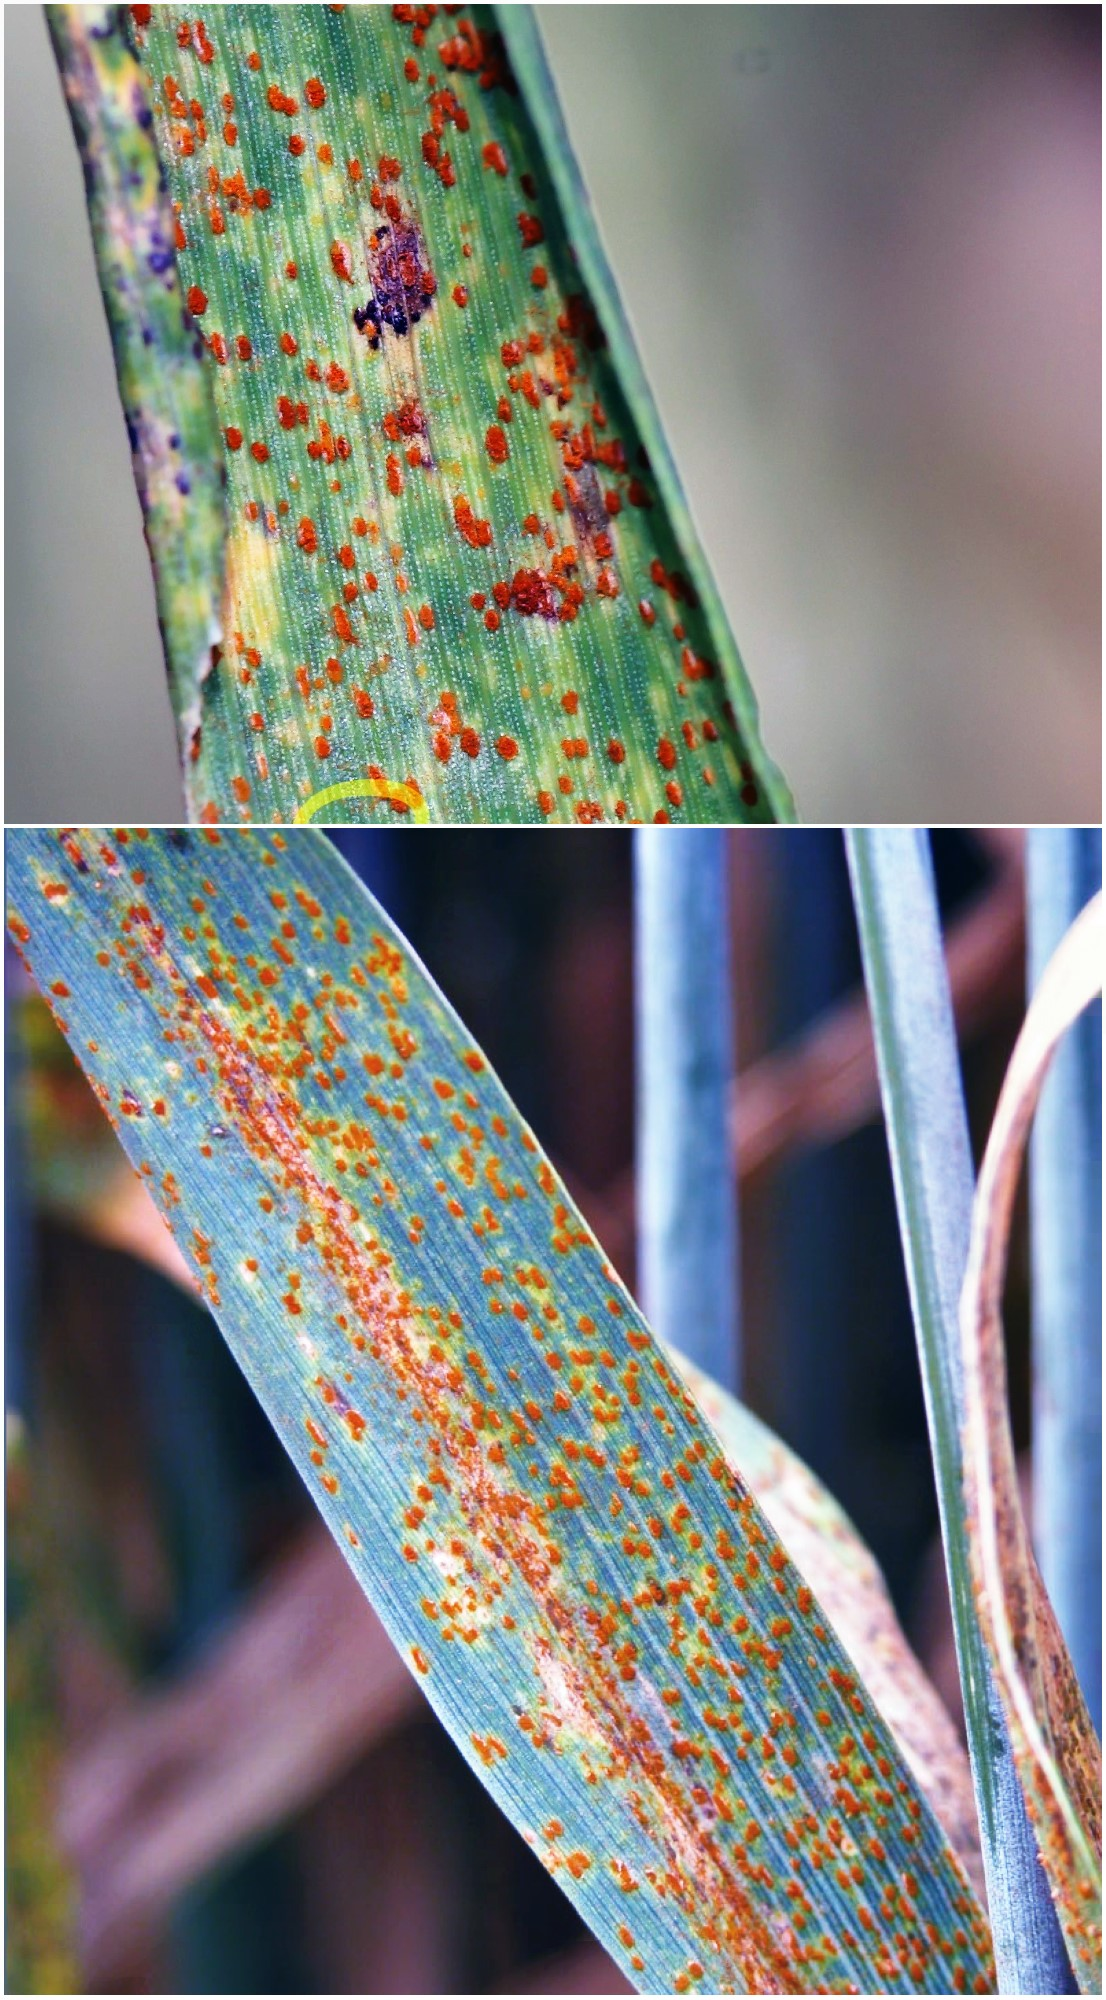Leaf Rust: (106, 937, 940, 1939), (140, 78, 764, 771)
